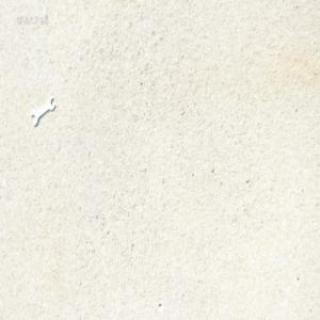Wrenchtrack_idkeyframe: (30, 93, 55, 127)
